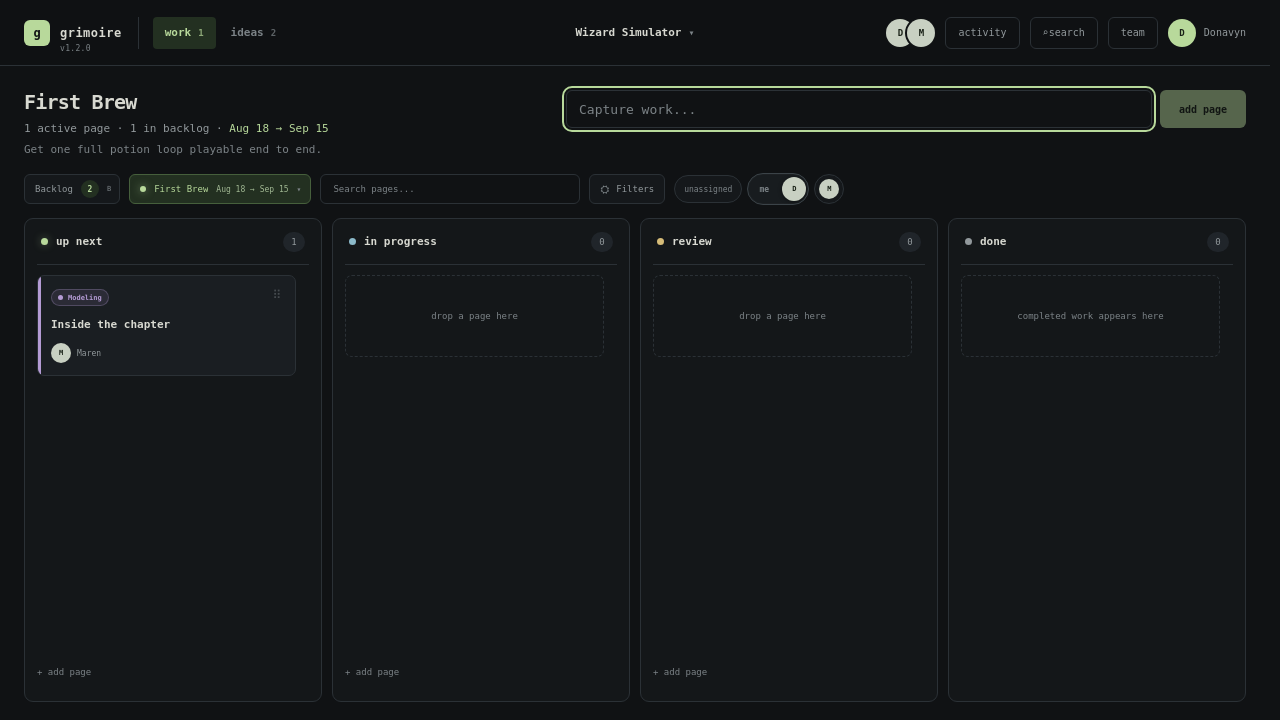
Test case: chapters on the board › widens back to every page through All work, and records it in the URL
Click the button with aria-label "Filter by chapter". click: (220, 189)
box: [129, 174, 312, 204]
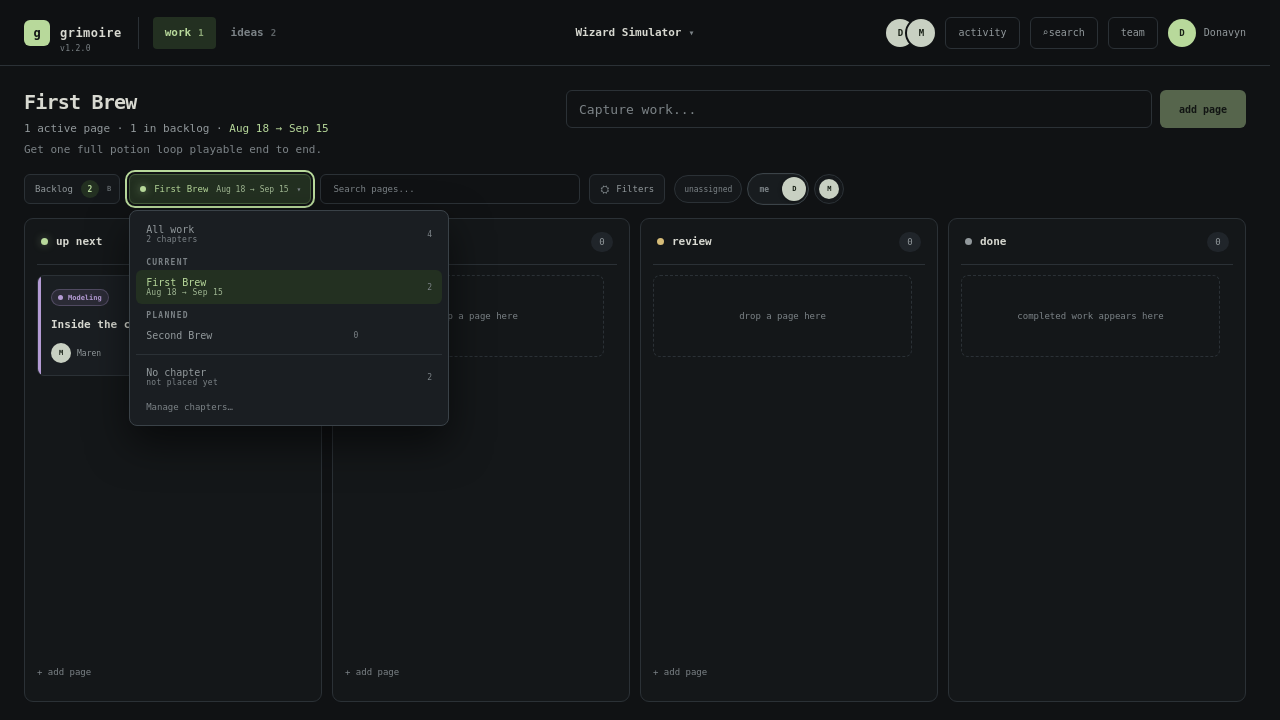
Click the menu item "All work 2 chapters 4". click: (170, 230)
box: [136, 217, 442, 251]
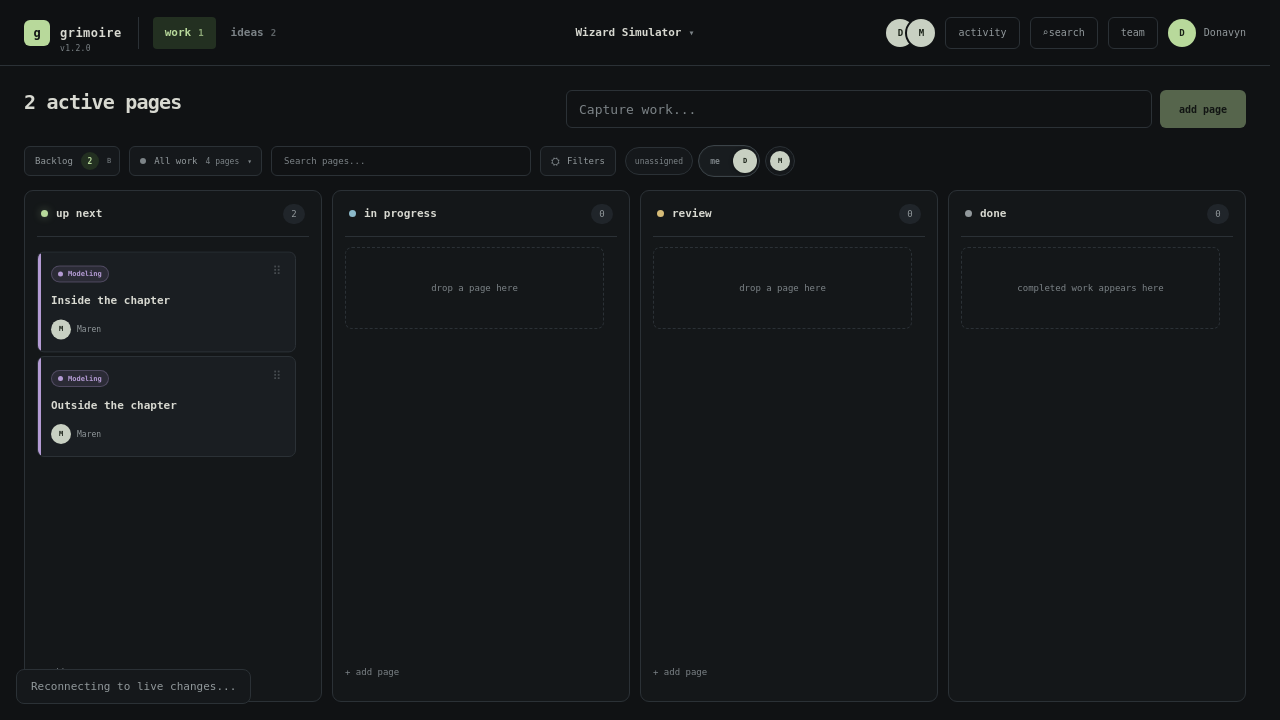
Expected: the text "Inside the chapter" is shown, [51, 291, 170, 304]
Now the text "Outside the chapter" is shown, box [51, 399, 177, 412]
